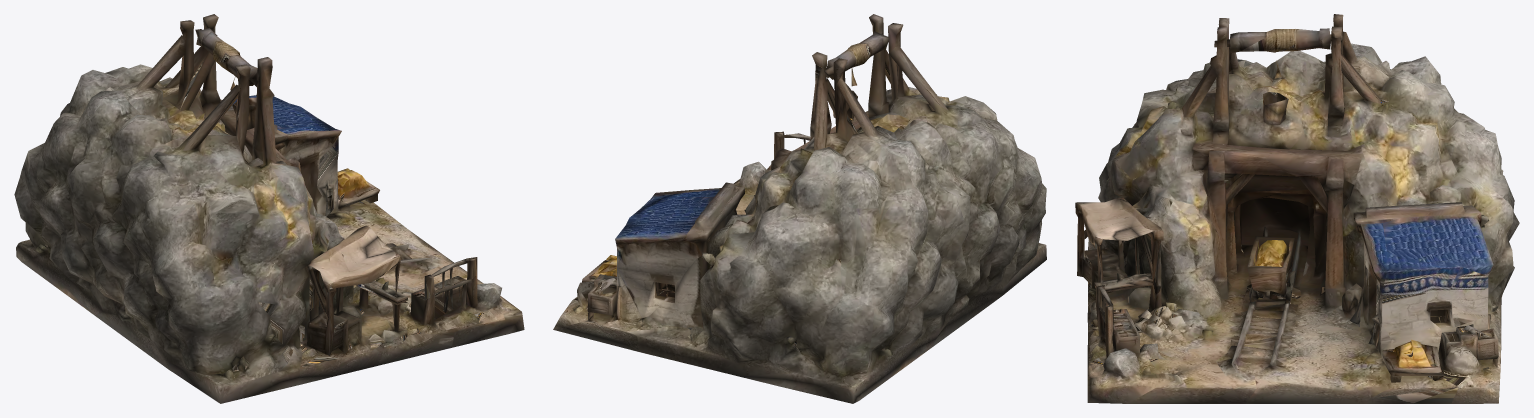
File: gold_mine_0.glb
The picture shows the model from 3 angles, left to right: view 1: azimuth 30°, elevation 25°; view 2: azimuth 150°, elevation 25°; view 3: azimuth 270°, elevation 25°; orthographic projection. The views are drawn at different scales.
Parts seen in each view (by area): view 1: tripo_node_4e387516-395e-4edb-935b-d134d7577af6; view 2: tripo_node_4e387516-395e-4edb-935b-d134d7577af6; view 3: tripo_node_4e387516-395e-4edb-935b-d134d7577af6.
Boxes of the visible parts, x1=… form: tripo_node_4e387516-395e-4edb-935b-d134d7577af6: x1=14, y1=14, x2=524, y2=403; tripo_node_4e387516-395e-4edb-935b-d134d7577af6: x1=553, y1=14, x2=1046, y2=403; tripo_node_4e387516-395e-4edb-935b-d134d7577af6: x1=1075, y1=14, x2=1519, y2=403.
Bounding box in the file's own units: 0.8935 × 0.6801 × 0.98.
Materials: 1 (1 with a texture image).
